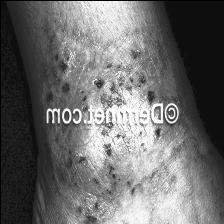Non-Cancerous Skin Condition: (48, 132, 166, 224), (50, 0, 124, 97), (140, 66, 168, 96)
